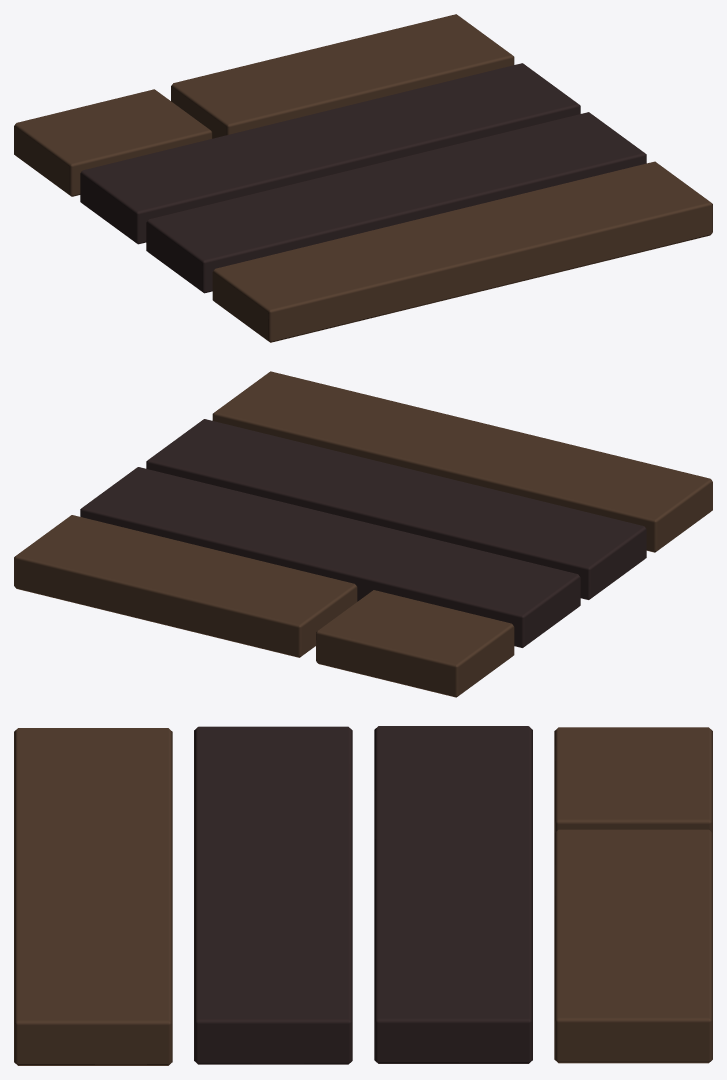
File: stone-halls-planks-b.4df7dcb6.glb
3 renders of one model, top to bottom at view 1: azimuth 30°, elevation 25°; view 2: azimuth 150°, elevation 25°; view 3: azimuth 270°, elevation 25°, orthographic. The views are drawn at different scales.
Visible parts, largest first — view 1: body; view 2: body; view 3: body.
Boxes of the visible parts, box(x1,y1,x2,y2) form: body: box(14, 14, 712, 342); body: box(14, 371, 712, 697); body: box(14, 726, 712, 1065).
Size of the model in its own units: 0.97 by 0.074 by 0.97.
